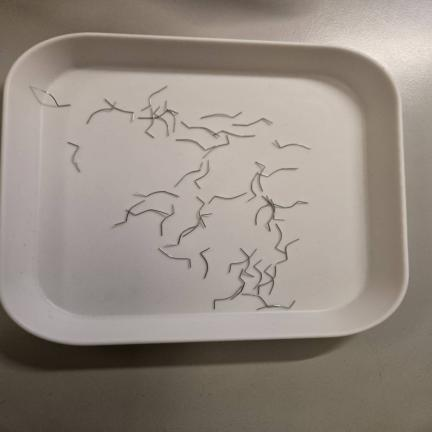probe: (30, 86, 71, 107), (159, 248, 191, 268), (209, 192, 247, 203), (194, 161, 209, 188), (68, 142, 80, 172), (273, 140, 311, 149), (200, 111, 242, 119), (135, 190, 179, 197), (200, 248, 210, 278), (233, 118, 272, 125)
